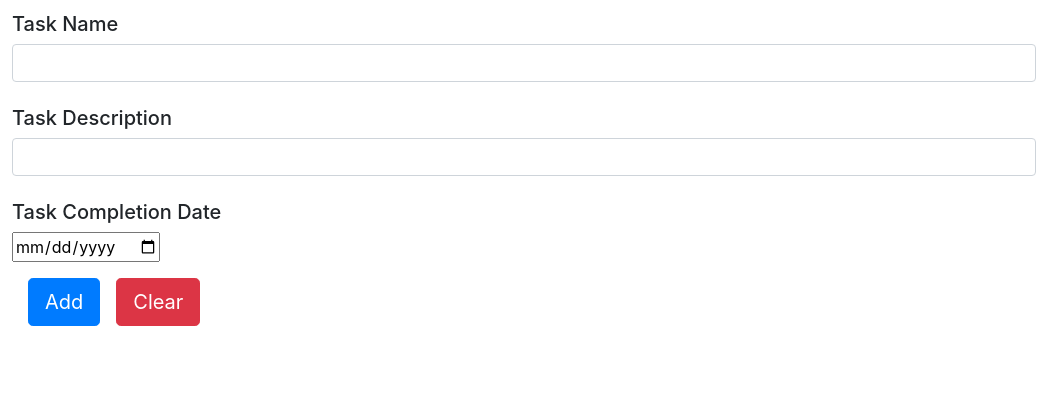
Test: Input.vue › Displays error message when the name of the task is empty
Note: Perform actions
Click the button with id "addButton" at (64, 302), box [28,278,100,326]
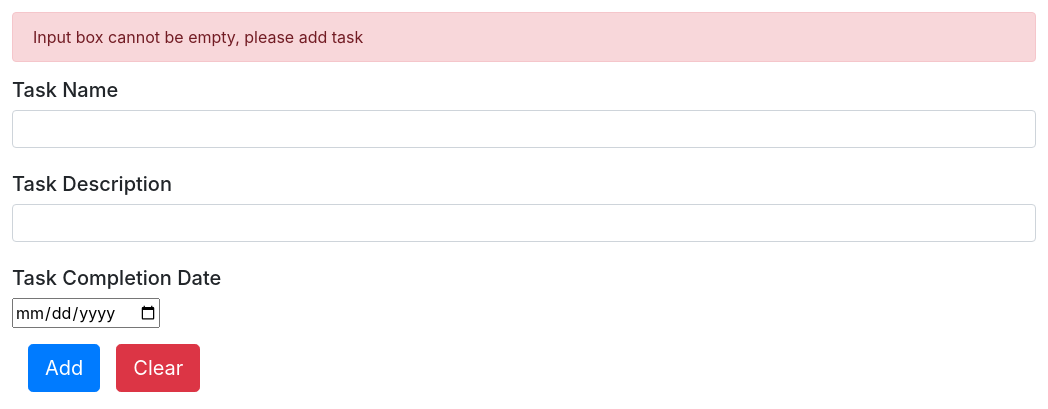
Result: the message with id "errorMessage" reads "Input box cannot be empty, please add task" at [33,27,363,47]
